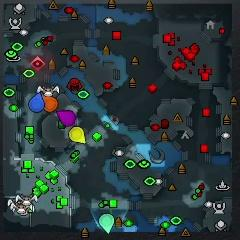p1: (29, 93, 44, 112)
p2: (98, 214, 115, 234)
p3: (56, 110, 76, 127)
p4: (69, 127, 86, 144)
p5: (41, 93, 58, 112)
